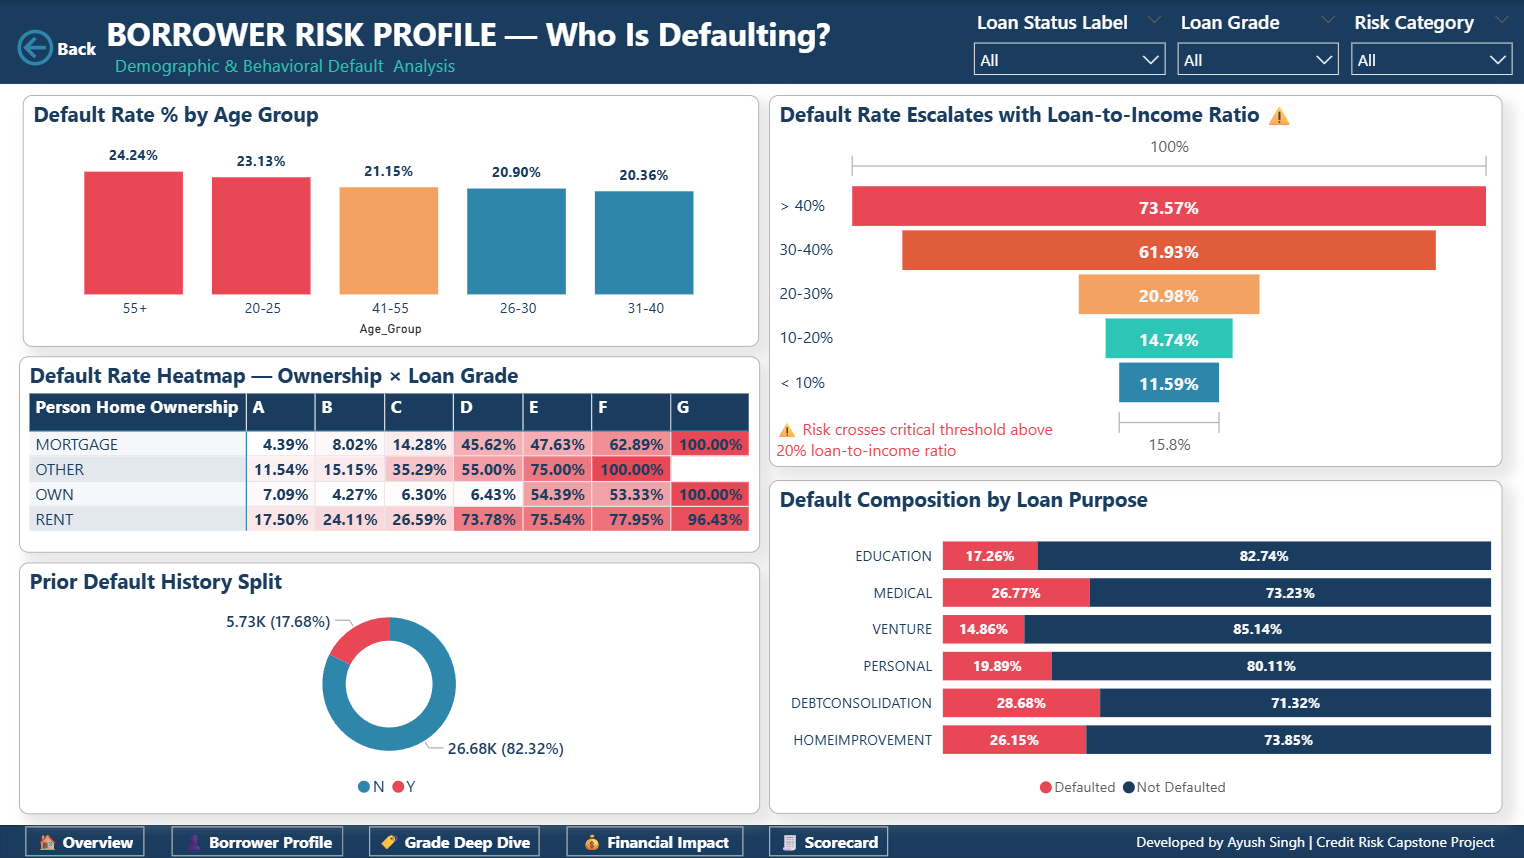

The page's visual inventory and layout, read from the dashboard file:
{"tool":"powerbi","page":{"name":"Borrower Profile","canvas":[1280,720],"ordinal":1},"visuals":[{"type":"group","id":"g1","title":"Group 1","box":[0,690.5,1280,29.5],"z":0},{"type":"shape","box":[0,691.6,1280,28.4],"z":0,"group":"g1"},{"type":"shape","box":[0,0,1280,70.5],"z":1000},{"type":"actionButton","box":[144.2,692.6,144.2,25.3],"z":1000,"group":"g1"},{"type":"textbox","box":[85,5.2,680.2,67.7],"z":2000},{"type":"actionButton","box":[22.1,692.6,100,25.3],"z":2000,"group":"g1"},{"type":"textbox","box":[92,39.6,297.4,30.5],"z":3000},{"type":"actionButton","box":[310.5,692.6,143.2,25.3],"z":3000,"group":"g1"},{"type":"actionButton","box":[10,20,75,40],"z":4000},{"type":"actionButton","box":[475.7,692.6,148.4,25.3],"z":4000,"group":"g1"},{"type":"slicer","fields":{"Values":["credit_risk_cleaned.risk_category"]},"box":[1124.2,2.5,155.8,65.3],"z":5000},{"type":"actionButton","box":[646.3,692.6,100,25.3],"z":5000,"group":"g1"},{"type":"slicer","fields":{"Values":["credit_risk_cleaned.loan_grade"]},"box":[978.4,1.9,155.8,66.3],"z":6000},{"type":"textbox","box":[948.4,690.5,312.6,28.4],"z":6000,"group":"g1"},{"type":"slicer","fields":{"Values":["credit_risk_cleaned.loan_status_label"]},"box":[807.4,1.9,181.1,66.3],"z":7000},{"type":"clusteredColumnChart","title":"Default Rate % by Age Group","fields":{"Category":["credit_risk_cleaned.Age_Group"],"Y":["_Measures.Default Rate %"]},"box":[20,80,617.5,211.2],"z":8000},{"type":"pivotTable","title":"Default Rate Heatmap — Ownership × Loan Grade","fields":{"Rows":["credit_risk_cleaned.person_home_ownership"],"Columns":["credit_risk_cleaned.loan_grade"],"Values":["_Measures.Default Rate %"]},"box":[16.2,298.8,621.2,165],"z":9000},{"type":"donutChart","title":"Prior Default History Split","fields":{"Category":["credit_risk_cleaned.cb_person_default_on_file"],"Y":["CountNonNull(credit_risk_cleaned.loan_status)"]},"box":[16.2,471.2,621.2,211.2],"z":10000},{"type":"hundredPercentStackedBarChart","title":"Default Composition by Loan Purpose","fields":{"Category":["credit_risk_cleaned.loan_intent"],"Y":["CountNonNull(credit_risk_cleaned.loan_status)"],"Series":["credit_risk_cleaned.loan_status_label"]},"box":[646.2,402.5,615,280],"z":11000},{"type":"funnel","title":"Default Rate Escalates with Loan-to-Income Ratio ⚠️","fields":{"Y":["_Measures.Default Rate %"],"Category":["credit_risk_cleaned.LTI_Bucket"]},"box":[645.6,80,615.6,312.2],"z":12000},{"type":"textbox","box":[646.7,345.6,243.3,45.6],"z":13000}]}

Visuals, with their boxes in screenshot pixels (x1, y1, x2, y2), scaled from the page's 1280x720 canvas onto the 1524x858 screenshot:
"Group 1" group: box(0, 823, 1523, 857)
shape: box(0, 824, 1523, 857)
shape: box(0, 0, 1523, 84)
actionButton: box(172, 825, 343, 855)
textbox: box(101, 6, 911, 87)
actionButton: box(26, 825, 145, 855)
textbox: box(110, 47, 464, 84)
actionButton: box(370, 825, 540, 855)
actionButton: box(12, 24, 101, 72)
actionButton: box(566, 825, 743, 855)
slicer - credit_risk_cleaned.risk_category: box(1339, 3, 1523, 81)
actionButton: box(770, 825, 889, 855)
slicer - credit_risk_cleaned.loan_grade: box(1165, 2, 1350, 81)
textbox: box(1129, 823, 1501, 857)
slicer - credit_risk_cleaned.loan_status_label: box(961, 2, 1177, 81)
"Default Rate % by Age Group" clusteredColumnChart: box(24, 95, 759, 347)
"Default Rate Heatmap — Ownership × Loan Grade" pivotTable: box(19, 356, 759, 553)
"Prior Default History Split" donutChart: box(19, 562, 759, 813)
"Default Composition by Loan Purpose" hundredPercentStackedBarChart: box(769, 480, 1502, 813)
"Default Rate Escalates with Loan-to-Income Ratio ⚠️" funnel: box(769, 95, 1502, 467)
textbox: box(770, 412, 1060, 466)
